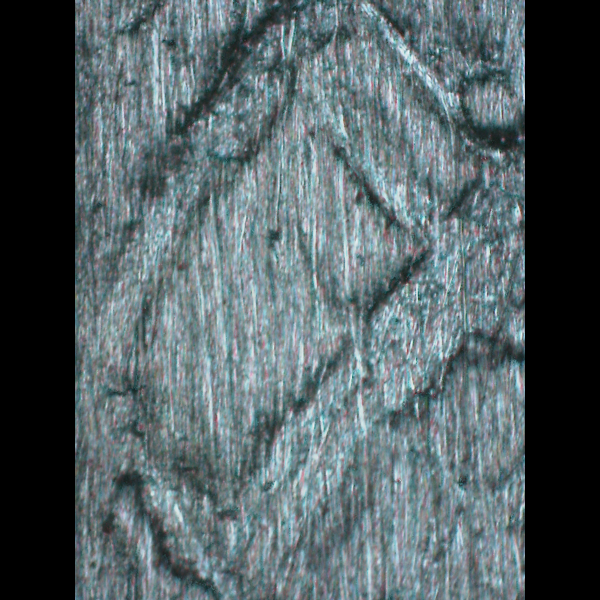d: (116, 0, 519, 592)
